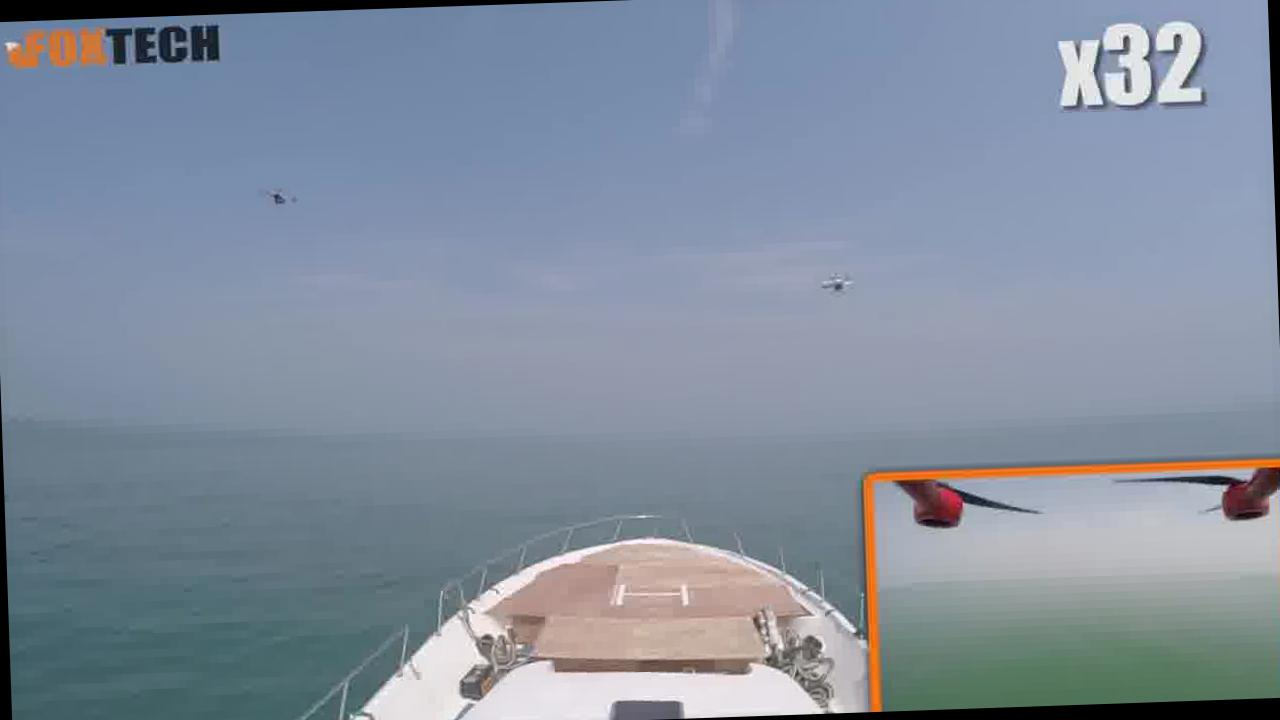drone: (250, 174, 302, 216), (813, 262, 859, 300)
